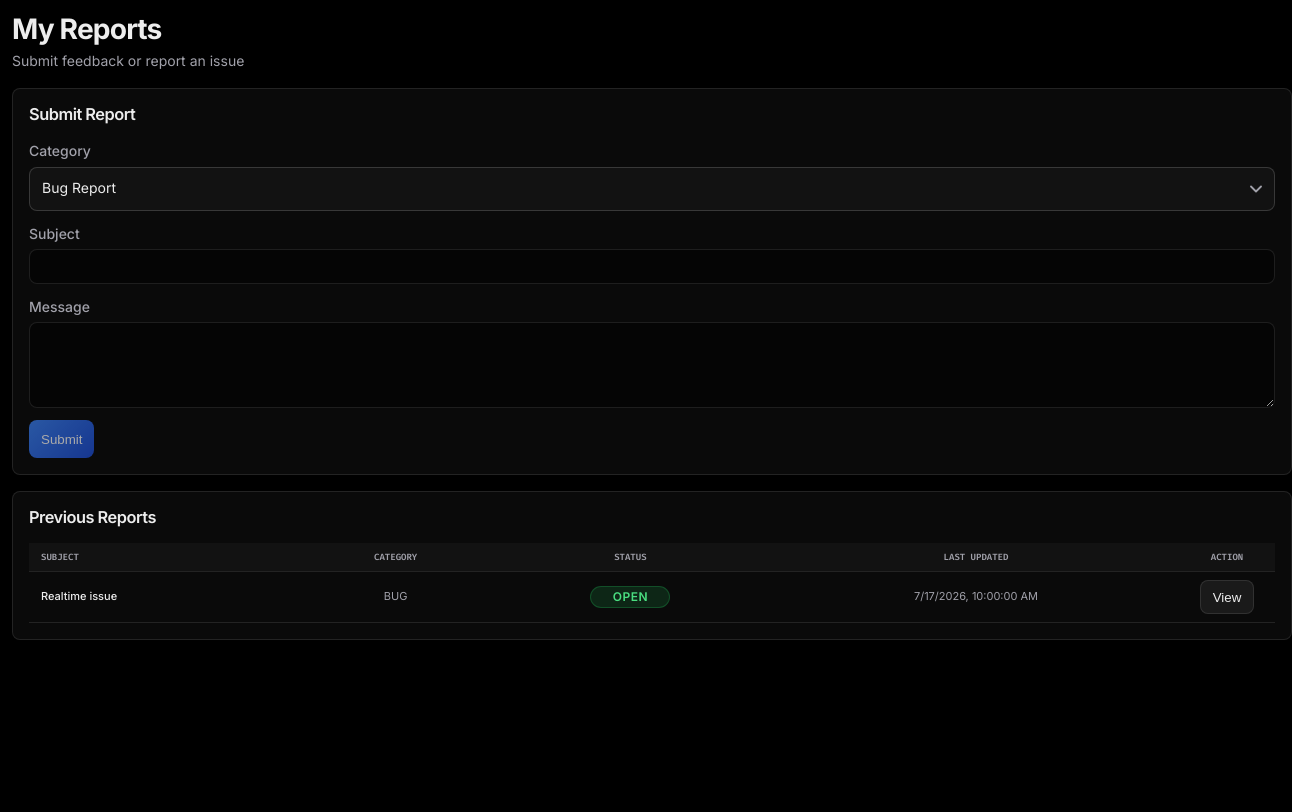
Test case: User ReportsView › renders a thread and ignores realtime events for another report
Click the button "View". click: click(1227, 597)
box: x1=1200 y1=580 x2=1254 y2=614
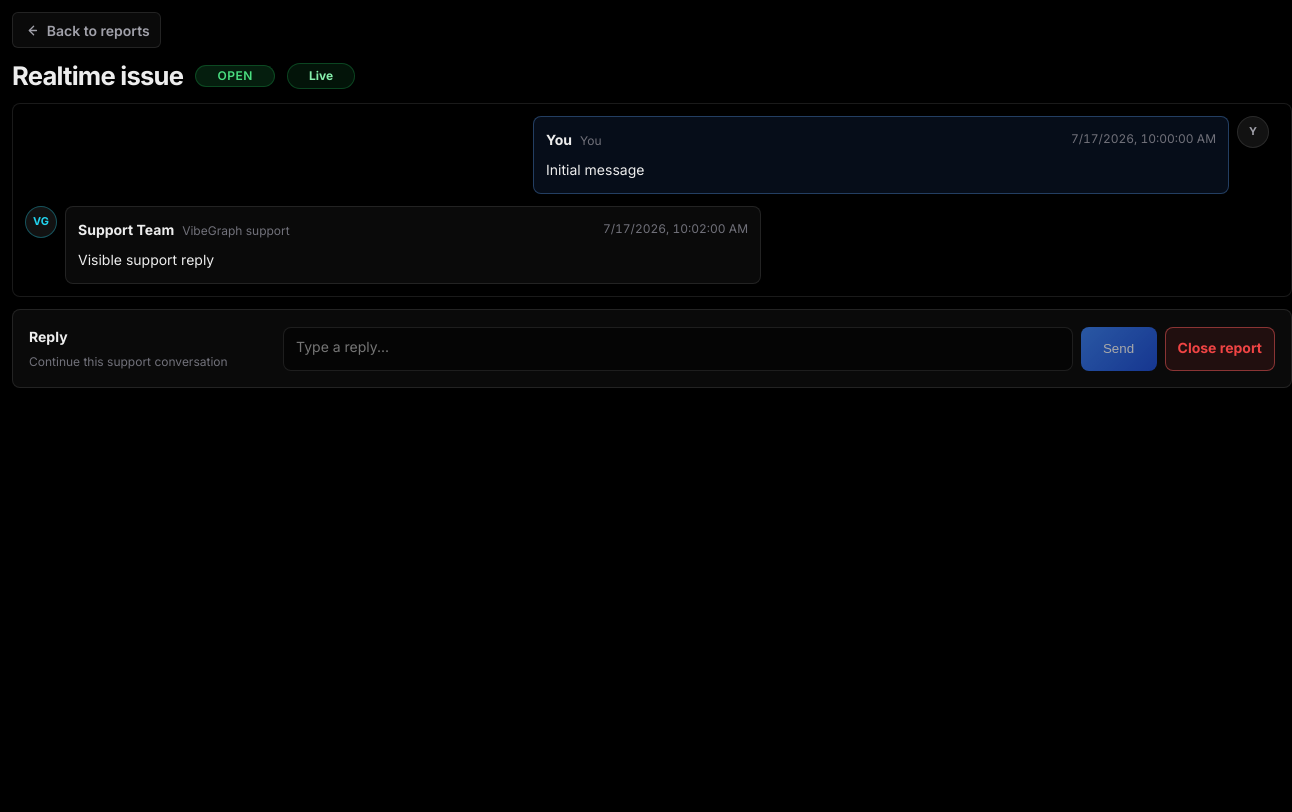
Expected: the text "Initial message" is shown, x1=546 y1=161 x2=644 y2=178
Expected: the text "Visible support reply" is shown, x1=78 y1=252 x2=214 y2=268
